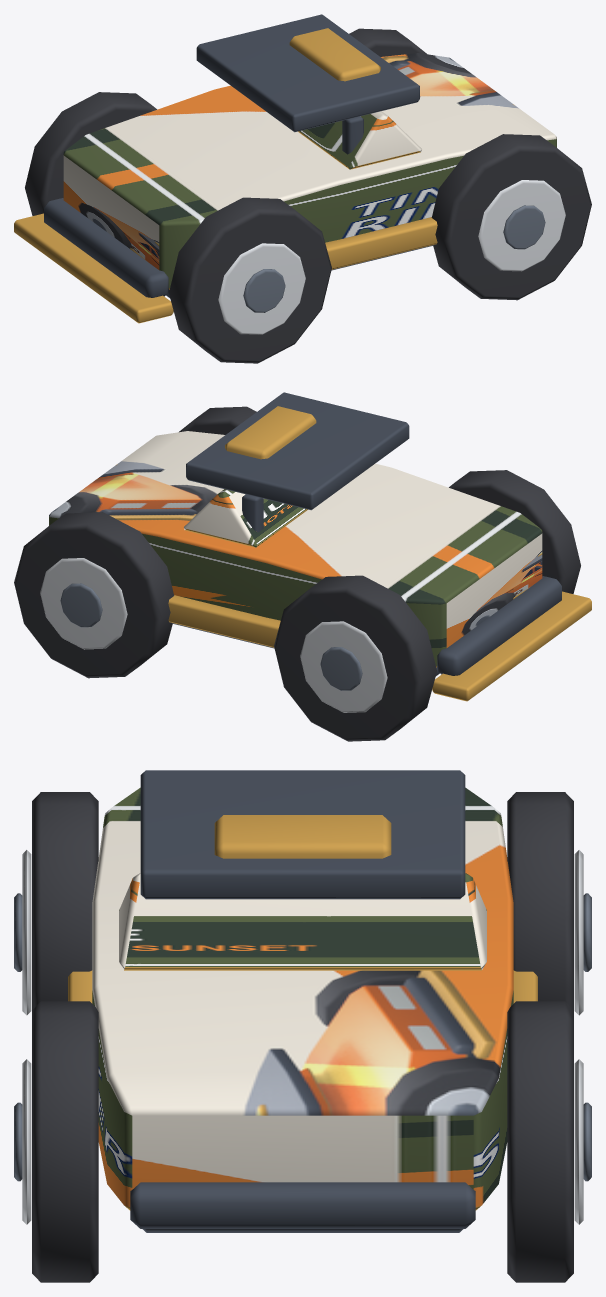
3 views of the same model, one above another, from view 1: azimuth 30°, elevation 25°; view 2: azimuth 150°, elevation 25°; view 3: azimuth 270°, elevation 25° (orthographic). The views are drawn at different scales.
Visible parts, largest first — view 1: DP-03_connected_shell, Tire, Tire.002, cage top, Tire.001, Rim, Rim.002, custom chin, front bumper, DP-03_cabin, custom side guard, custom equipment (+4 smaller); view 2: DP-03_connected_shell, Tire.001, Tire.003, cage top, Tire, Rim.001, Rim.003, custom chin, front bumper, DP-03_cabin, custom side guard.001, custom equipment (+4 smaller); view 3: DP-03_connected_shell, cage top, DP-03_cabin, Tire.002, Tire.003, rear bumper, Tire, Tire.001, custom equipment, Rim.002, Rim.003, Rim (+8 smaller).
Boxes of the visible parts, <box> form: DP-03_connected_shell: <box>63,53,556,289</box>; Tire: <box>169,197,331,363</box>; Tire.002: <box>431,134,591,300</box>; cage top: <box>196,14,419,132</box>; Tire.001: <box>25,92,156,215</box>; Rim: <box>218,243,305,334</box>; Rim.002: <box>478,180,565,271</box>; custom chin: <box>14,213,173,323</box>; front bumper: <box>44,198,169,297</box>; DP-03_cabin: <box>298,111,421,169</box>; custom side guard: <box>325,217,437,269</box>; custom equipment: <box>289,28,380,81</box>; DP-03_connected_shell: <box>49,431,542,667</box>; Tire.001: <box>274,575,436,741</box>; Tire.003: <box>14,512,174,678</box>; cage top: <box>186,392,409,510</box>; Tire: <box>449,470,580,593</box>; Rim.001: <box>300,621,387,712</box>; Rim.003: <box>40,558,127,649</box>; custom chin: <box>432,591,591,701</box>; front bumper: <box>436,576,561,675</box>; DP-03_cabin: <box>184,489,307,547</box>; custom side guard.001: <box>168,595,280,647</box>; custom equipment: <box>225,406,316,459</box>; DP-03_connected_shell: <box>92,787,513,1210</box>; cage top: <box>140,770,465,899</box>; DP-03_cabin: <box>119,873,486,970</box>; Tire.002: <box>32,1001,98,1282</box>; Tire.003: <box>507,1001,573,1282</box>; rear bumper: <box>130,1182,475,1228</box>; Tire: <box>32,792,98,1009</box>; Tire.001: <box>507,792,573,1009</box>; custom equipment: <box>214,815,391,858</box>; Rim.002: <box>22,1059,31,1224</box>; Rim.003: <box>574,1059,583,1224</box>; Rim: <box>22,850,31,1015</box>.
Bounding box in the file's own units: 329 × 154 × 225.
